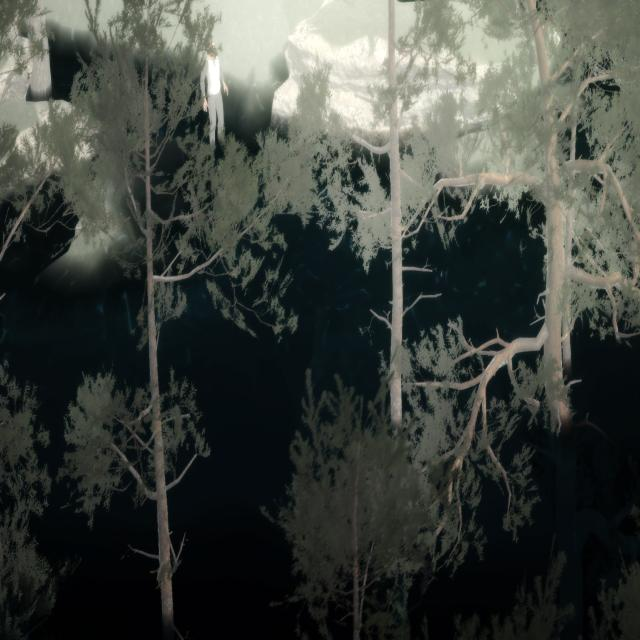Human: (192, 19, 234, 162)
